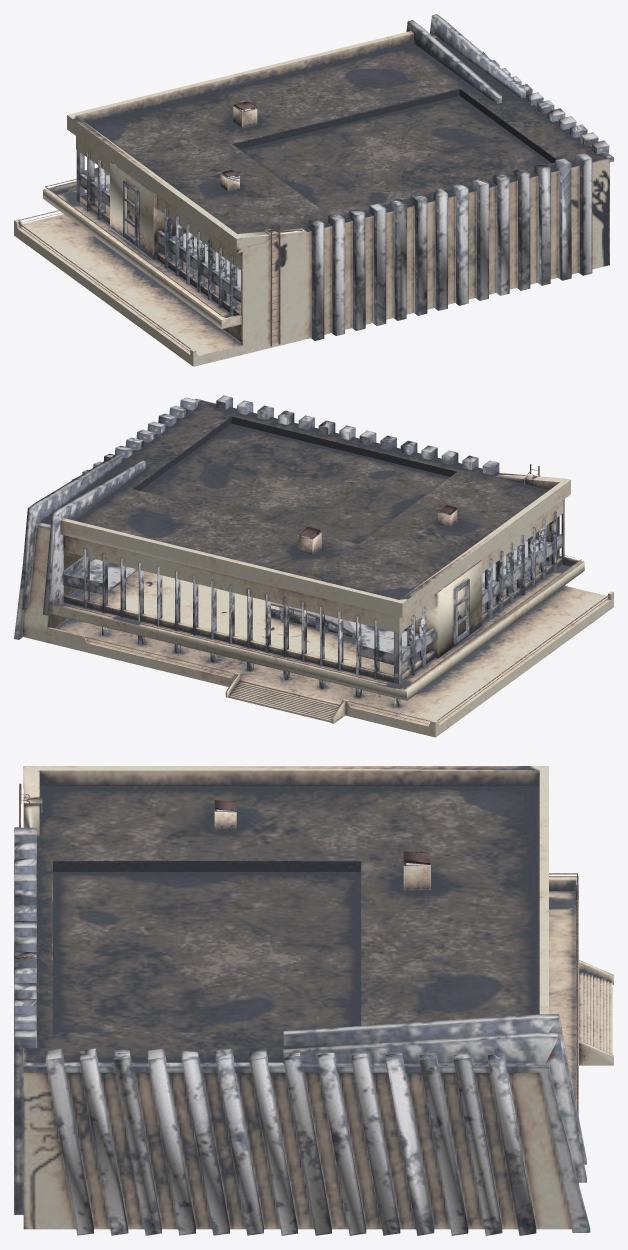
File: landmark_culture.glb
3 renders of one model, top to bottom at view 1: azimuth 30°, elevation 25°; view 2: azimuth 150°, elevation 25°; view 3: azimuth 270°, elevation 25°, orthographic. The views are drawn at different scales.
Parts seen in each view (by area): view 1: landmark_culture; view 2: landmark_culture; view 3: landmark_culture.
Boxes of the visible parts, <box> form: landmark_culture: <box>14,14,613,366</box>; landmark_culture: <box>14,395,613,737</box>; landmark_culture: <box>14,766,613,1235</box>.
Bounding box in the file's own units: 12.88 × 3.69 × 10.22.
1 material, 1 textured.
